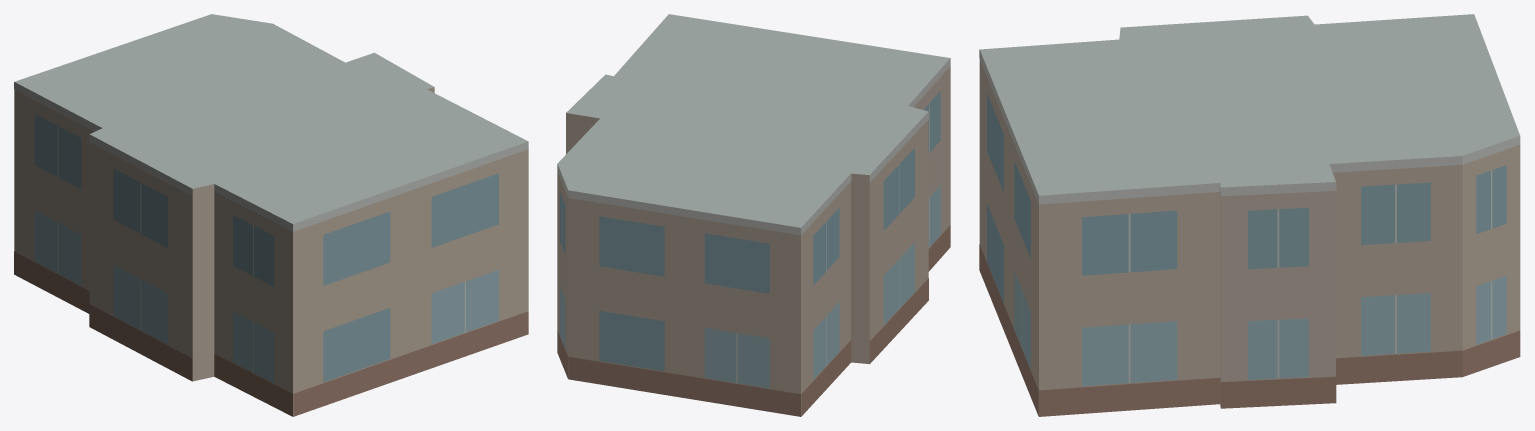
The model's file is survey-upis-32622408.glb.
The picture shows the model from 3 angles, left to right: view 1: azimuth 30°, elevation 25°; view 2: azimuth 150°, elevation 25°; view 3: azimuth 270°, elevation 25°; orthographic projection. The views are drawn at different scales.
Parts seen in each view (by area): view 1: survey-upis-32622408.tmp; view 2: survey-upis-32622408.tmp; view 3: survey-upis-32622408.tmp.
Part boxes in pixels (x1,y1,x2,y2): survey-upis-32622408.tmp: (14, 14, 528, 416); survey-upis-32622408.tmp: (557, 14, 950, 416); survey-upis-32622408.tmp: (979, 14, 1520, 416).
Size of the model in its own units: 10.76 by 6.1 by 13.53.
